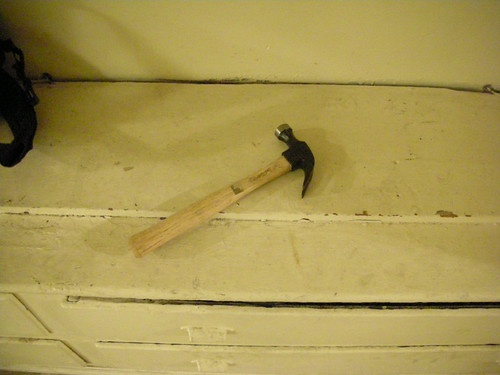hammer: (131, 123, 317, 258)
